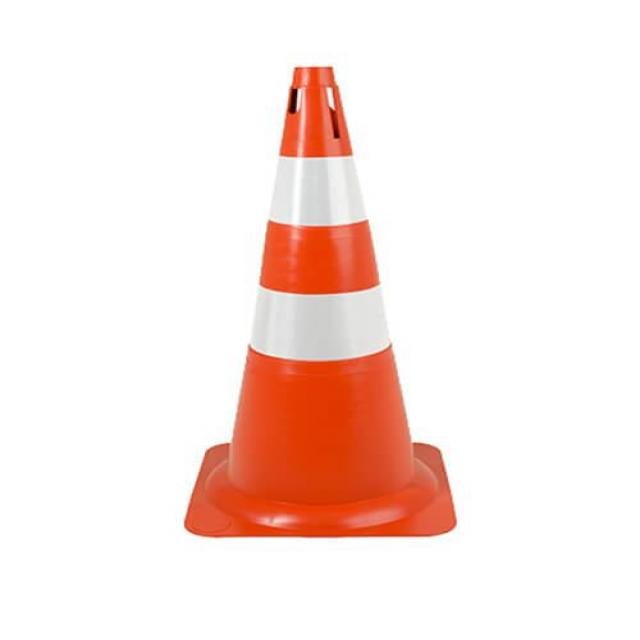cone: (189, 54, 460, 534)
